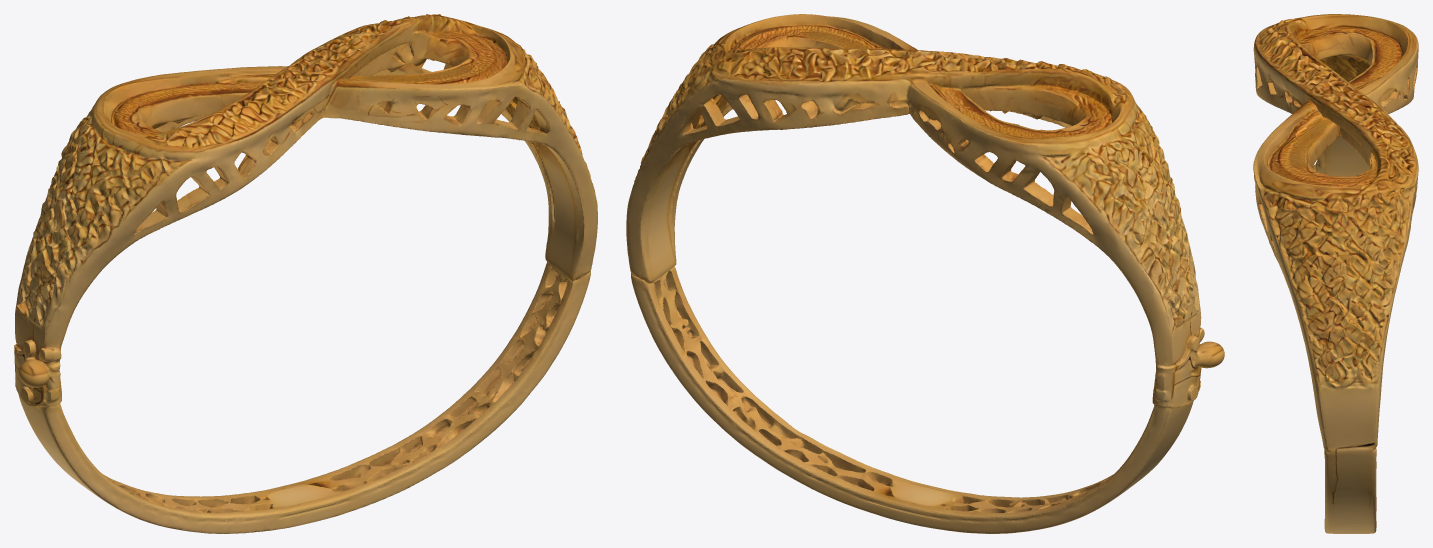
Rendered from bkhatem1.glb.
3 renders of one model, left to right at view 1: azimuth 30°, elevation 25°; view 2: azimuth 150°, elevation 25°; view 3: azimuth 270°, elevation 25°, orthographic. The views are drawn at different scales.
Visible parts, largest first — view 1: model; view 2: model; view 3: model.
Boxes of the visible parts, x1,y1,x2,y2 form: model: [14, 14, 597, 533]; model: [626, 14, 1224, 533]; model: [1253, 14, 1418, 533].
Bounding box in the file's own units: 1.76 × 1.33 × 0.4851.
1 material, 1 textured.
